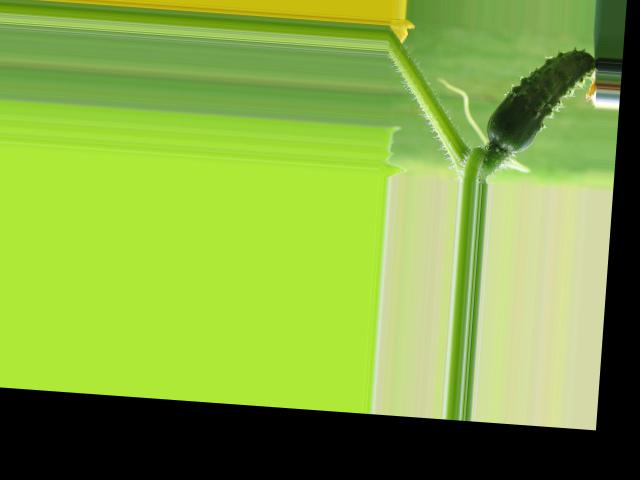cucumber: (483, 42, 596, 156)
